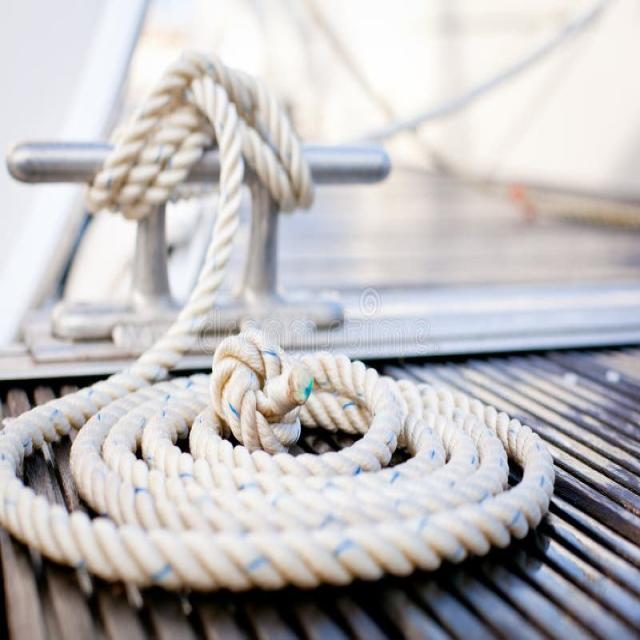Rope: (0, 50, 560, 598)
